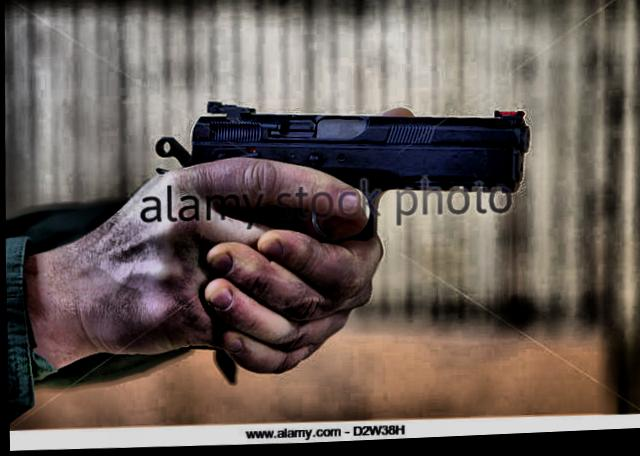pistol: (160, 102, 537, 359)
